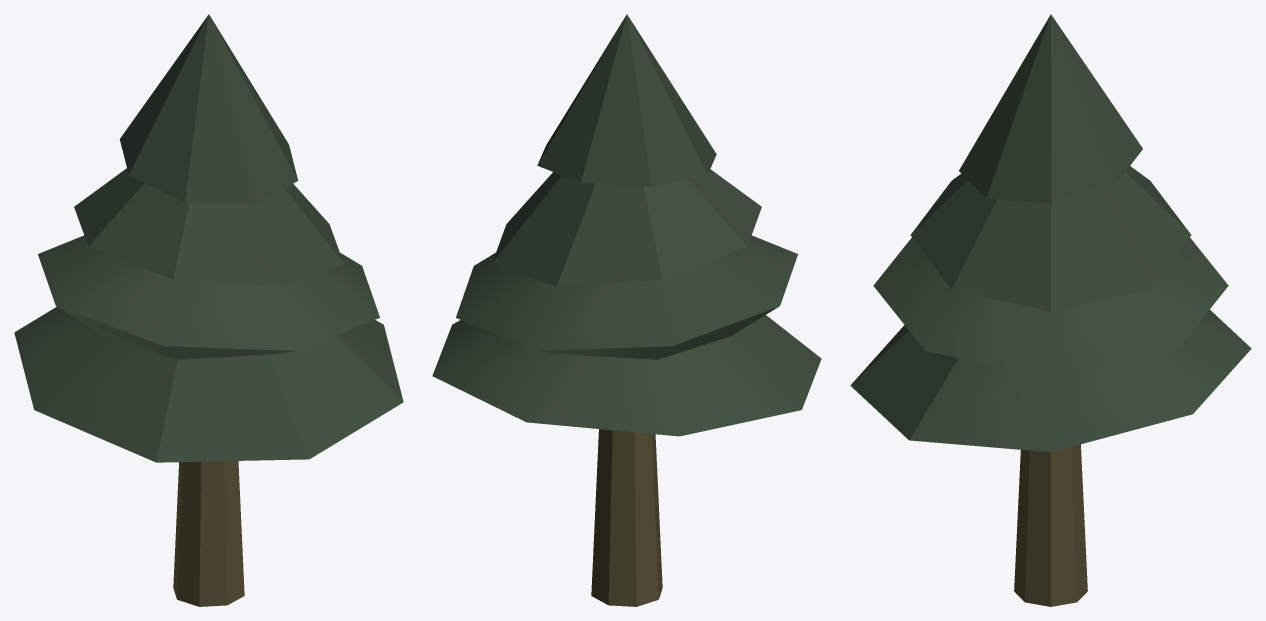
File: Arbol con hojas 2.fbx
The picture shows the model from 3 angles, left to right: view 1: azimuth 30°, elevation 25°; view 2: azimuth 150°, elevation 25°; view 3: azimuth 270°, elevation 25°; orthographic projection.
Visible parts, largest first — view 1: Arbol_con_hojas_2; view 2: Arbol_con_hojas_2; view 3: Arbol_con_hojas_2.
Part boxes in pixels (x1,y1,x2,y2): Arbol_con_hojas_2: [14, 14, 403, 606]; Arbol_con_hojas_2: [432, 14, 821, 606]; Arbol_con_hojas_2: [850, 14, 1251, 606].
Size of the model in its own units: 10.83 by 17.09 by 10.77.
